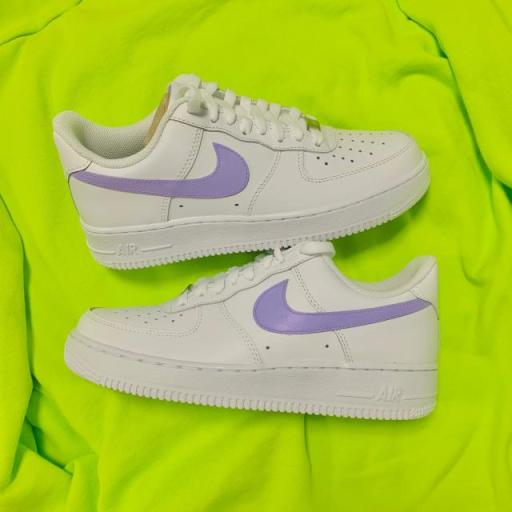Nike: (252, 279, 431, 334)
